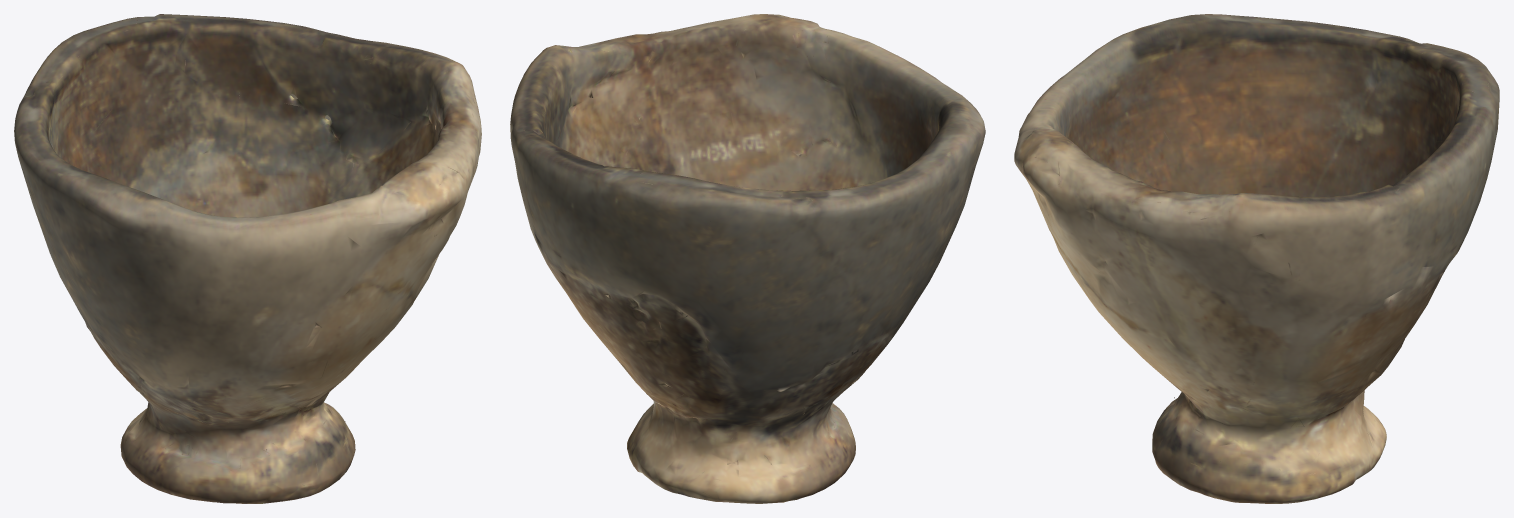
3 views of the same model, side by side, from view 1: azimuth 30°, elevation 25°; view 2: azimuth 150°, elevation 25°; view 3: azimuth 270°, elevation 25° (orthographic).
Parts seen in each view (by area): view 1: NM0206_low; view 2: NM0206_low; view 3: NM0206_low.
Part boxes in pixels (x1,y1,x2,y2): NM0206_low: (14,14,481,503); NM0206_low: (510,14,985,503); NM0206_low: (1014,14,1499,503).
Bounding box in the file's own units: 112 × 94.91 × 113.
1 material, 1 textured.
